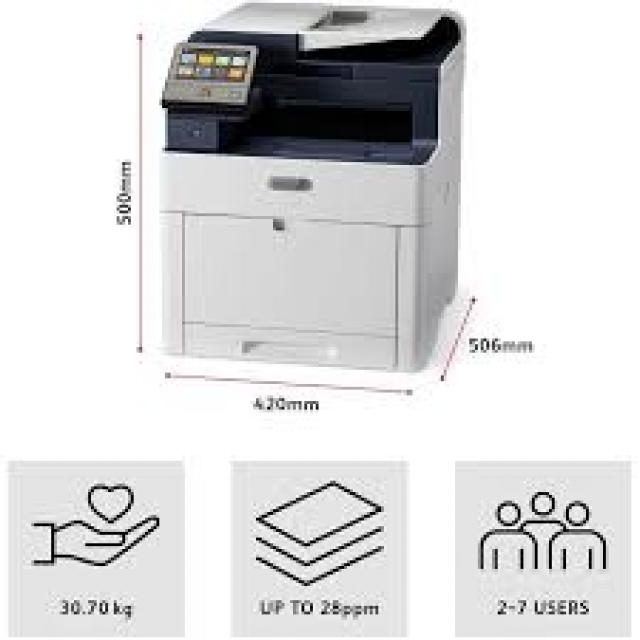printer: (148, 0, 474, 378)
